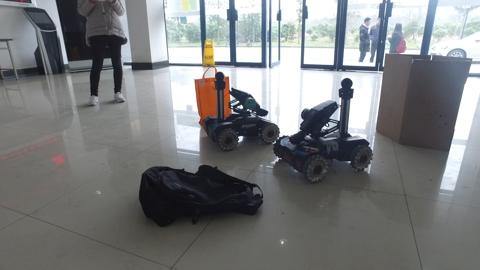bag: (141, 166, 259, 221)
box: (380, 54, 461, 150)
chariot: (274, 80, 375, 177), (200, 75, 279, 147)
